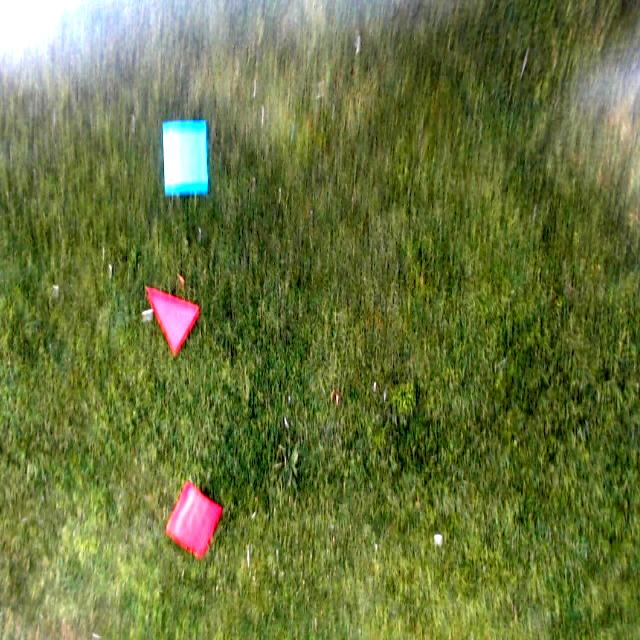blue_square: (162, 128, 207, 184)
red_square: (166, 480, 222, 560)
red_triangle: (145, 285, 201, 357)
